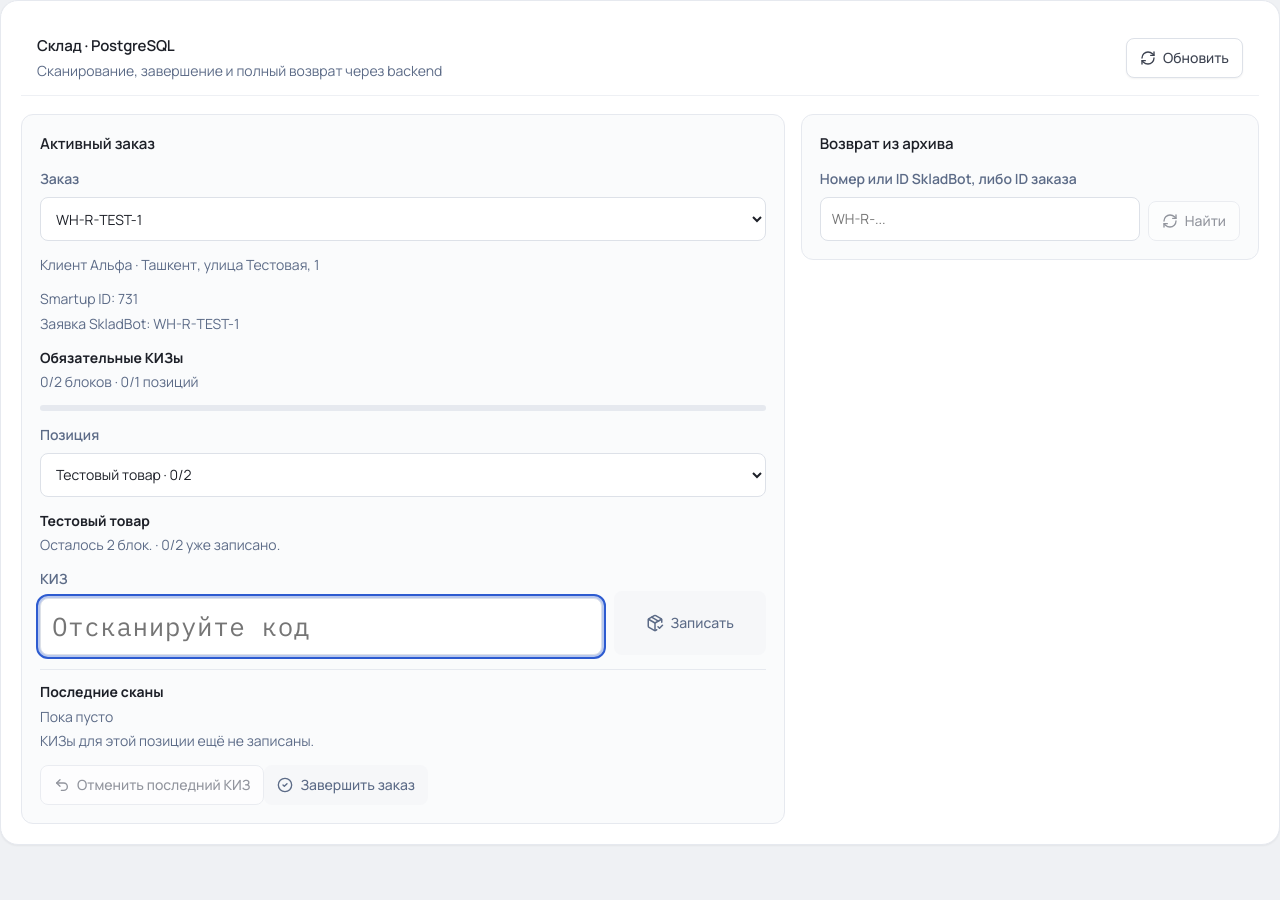
DB-only warehouse operations › stops after unavailable preflight and does not post the scan
Type "0104006396053947217BUSY01XXXXXXXXXX" into the field labelled "КИЗ". click: coordinates (321, 627)
box: [40, 598, 602, 656]
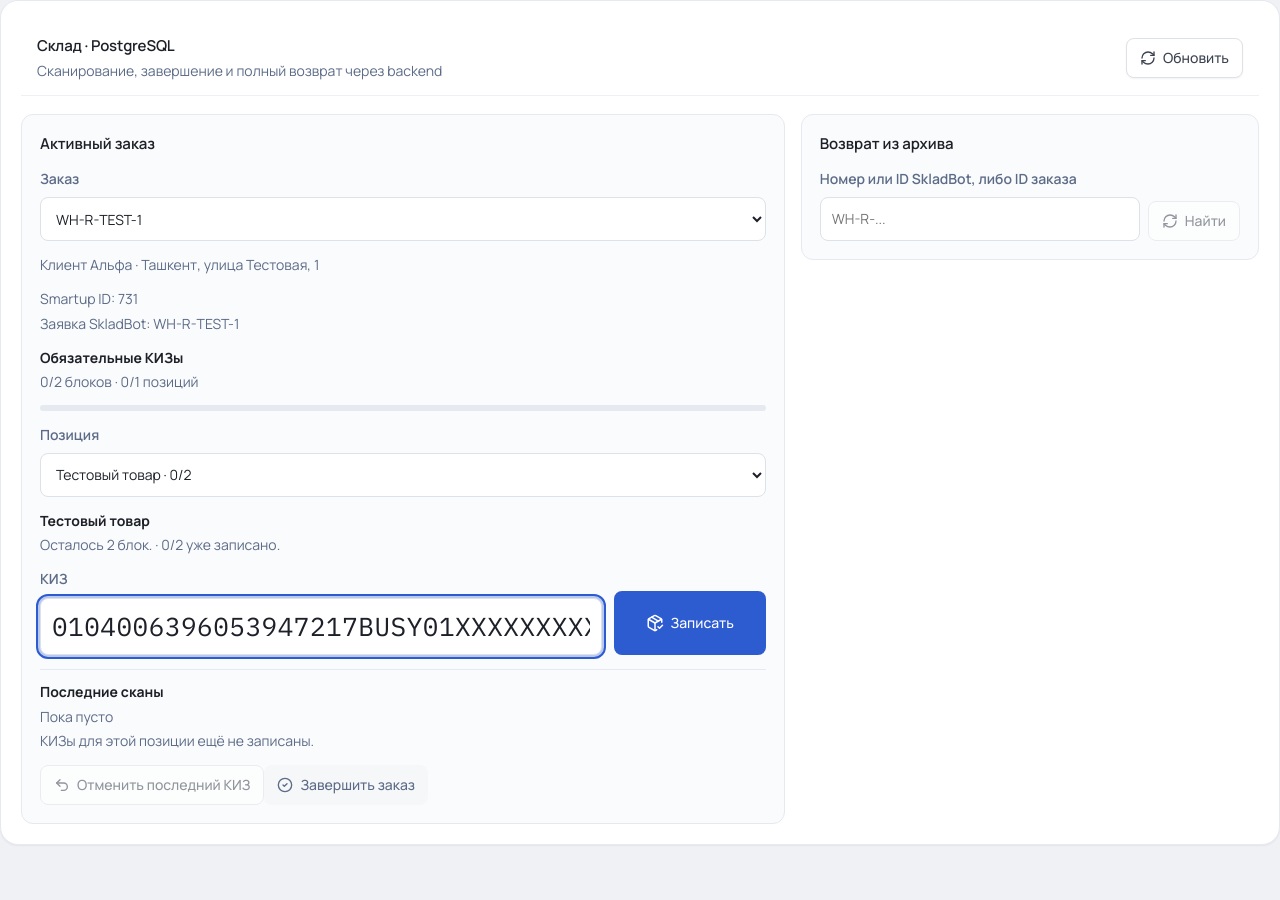
Click the button "Записать". click: coordinates (690, 624)
box: [614, 592, 766, 656]
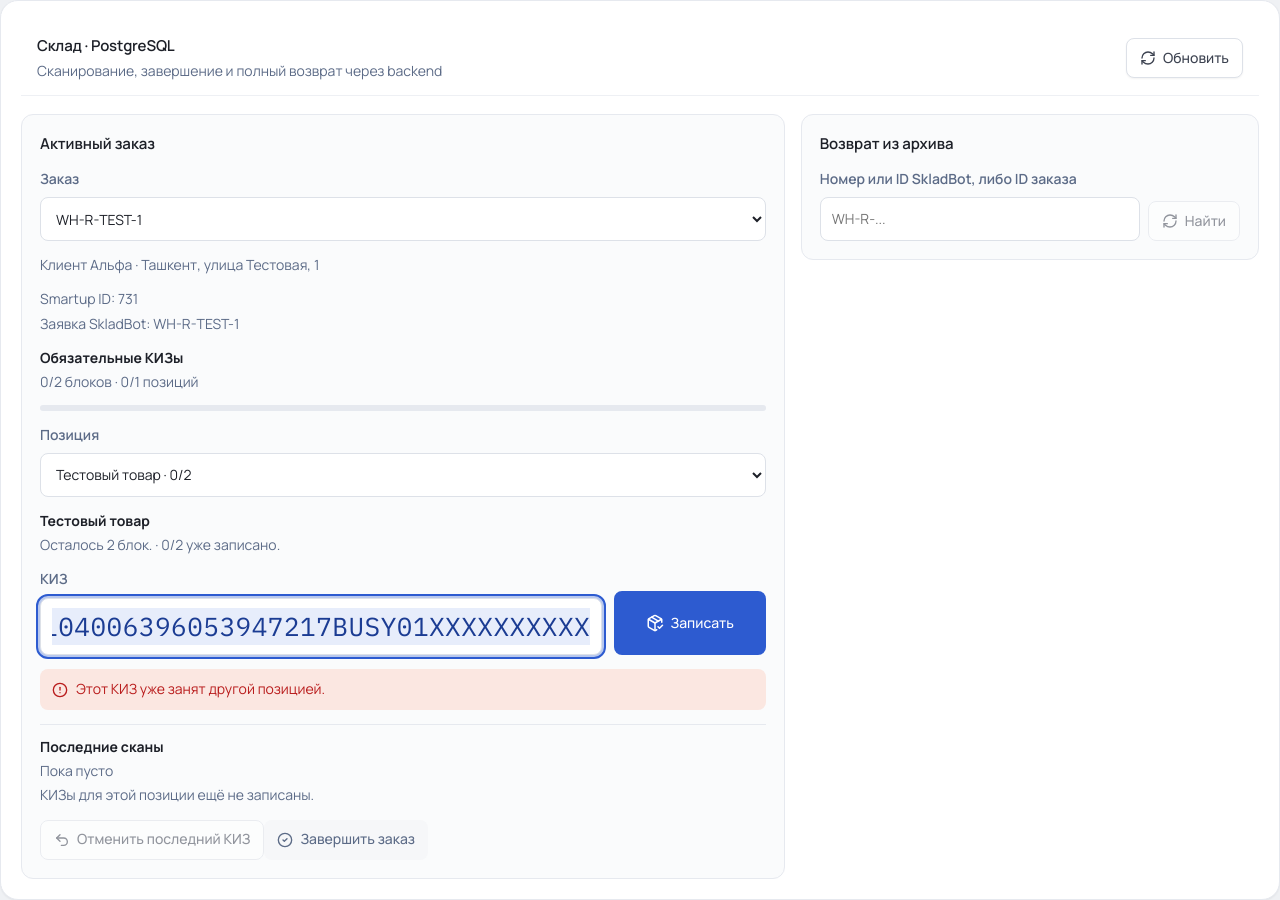
Result: the text "Этот КИЗ уже занят другой позицией." is shown at [40, 670, 766, 710]
